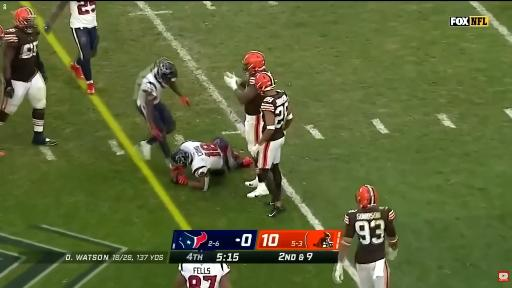Helmet: (155, 58, 177, 83), (14, 7, 35, 32), (243, 51, 265, 74), (356, 185, 377, 207), (255, 72, 275, 93), (171, 148, 192, 166)
Jersey: (344, 207, 396, 263), (4, 27, 39, 82), (180, 141, 223, 177), (261, 91, 288, 141), (179, 264, 230, 287), (136, 68, 164, 105), (70, 2, 97, 28), (244, 94, 264, 115)
Player: (0, 7, 57, 145), (333, 185, 397, 287), (248, 72, 292, 217), (135, 58, 189, 166), (45, 2, 98, 94), (171, 137, 252, 191), (225, 51, 267, 149), (173, 264, 230, 287), (0, 26, 3, 46)
